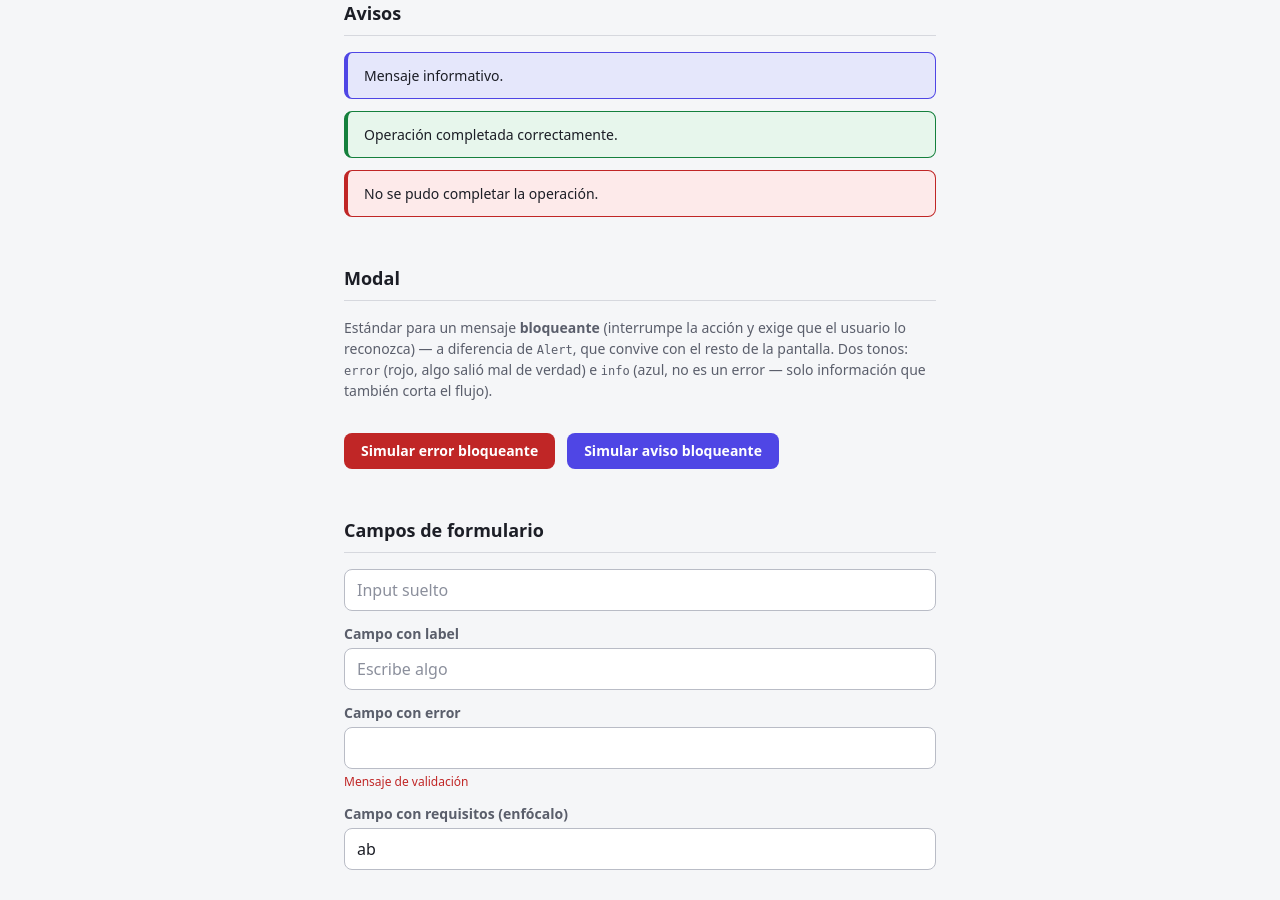
Test: StyleGuidePage › simula y cierra el modal de aviso (tono info) desde la guía viva
(page scrolled)
Click the button "Simular aviso bloqueante": (673, 451) [567,433,779,468]
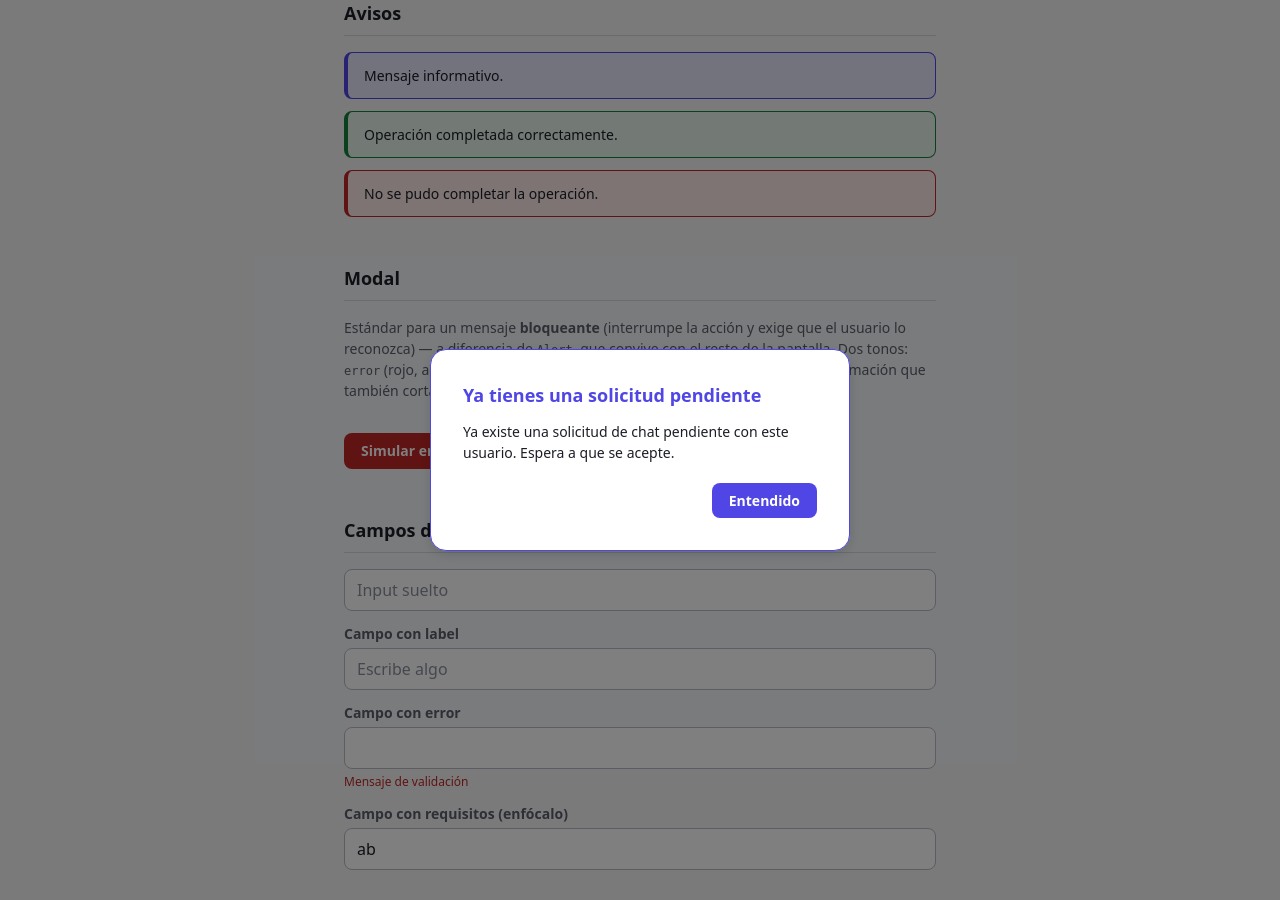
Result: the dialog "Ya tienes una solicitud pendiente" is shown at [430,349,850,551]
Click the button "Entendido": (764, 501) [712,483,817,518]
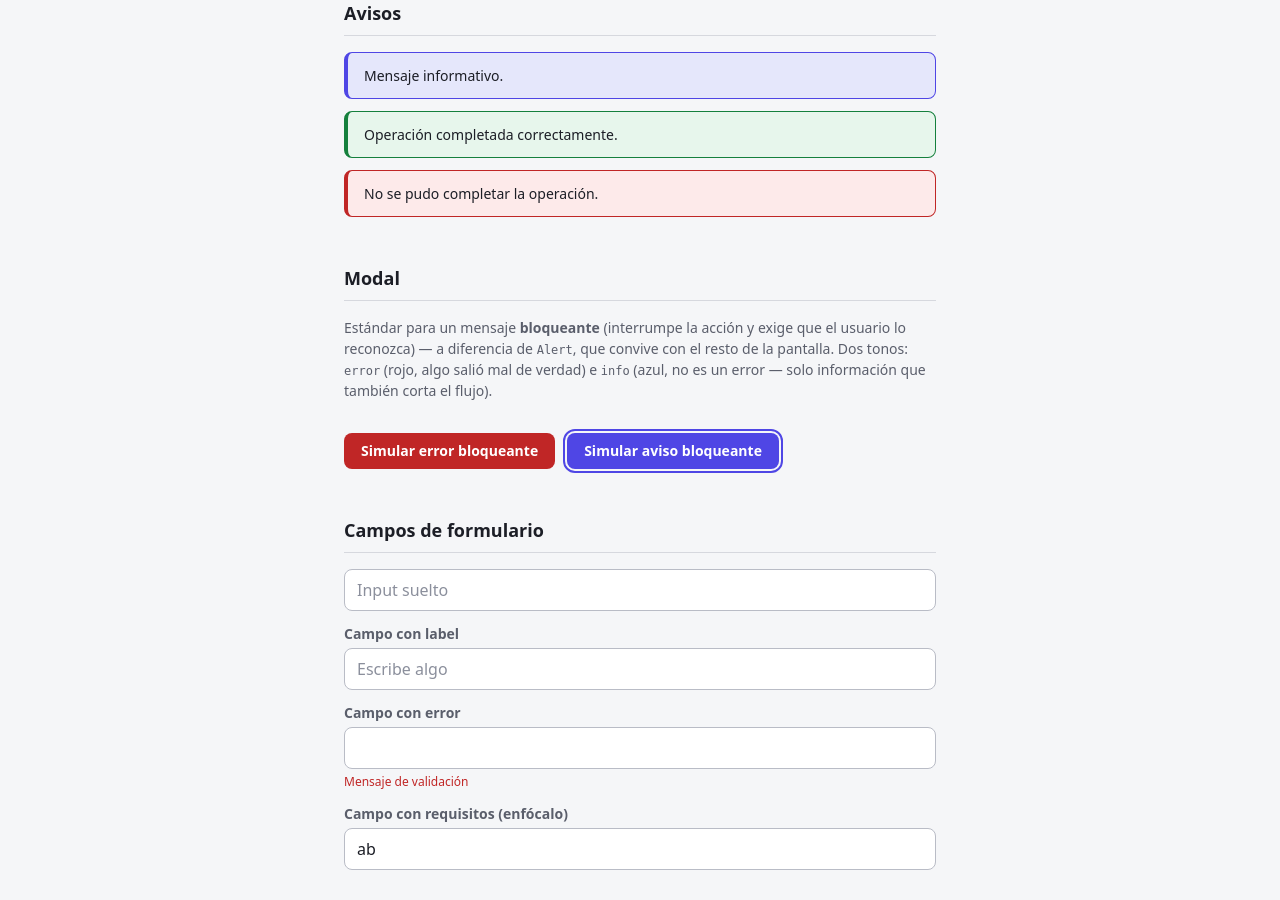
Result: the dialog is gone
